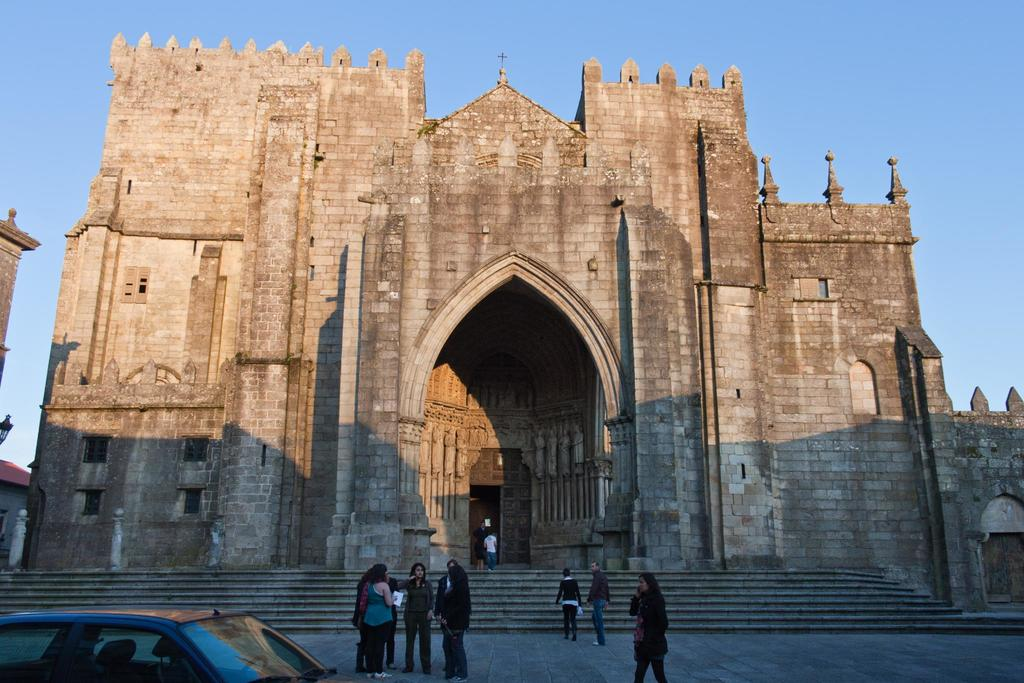Car: (0, 603, 392, 682)
